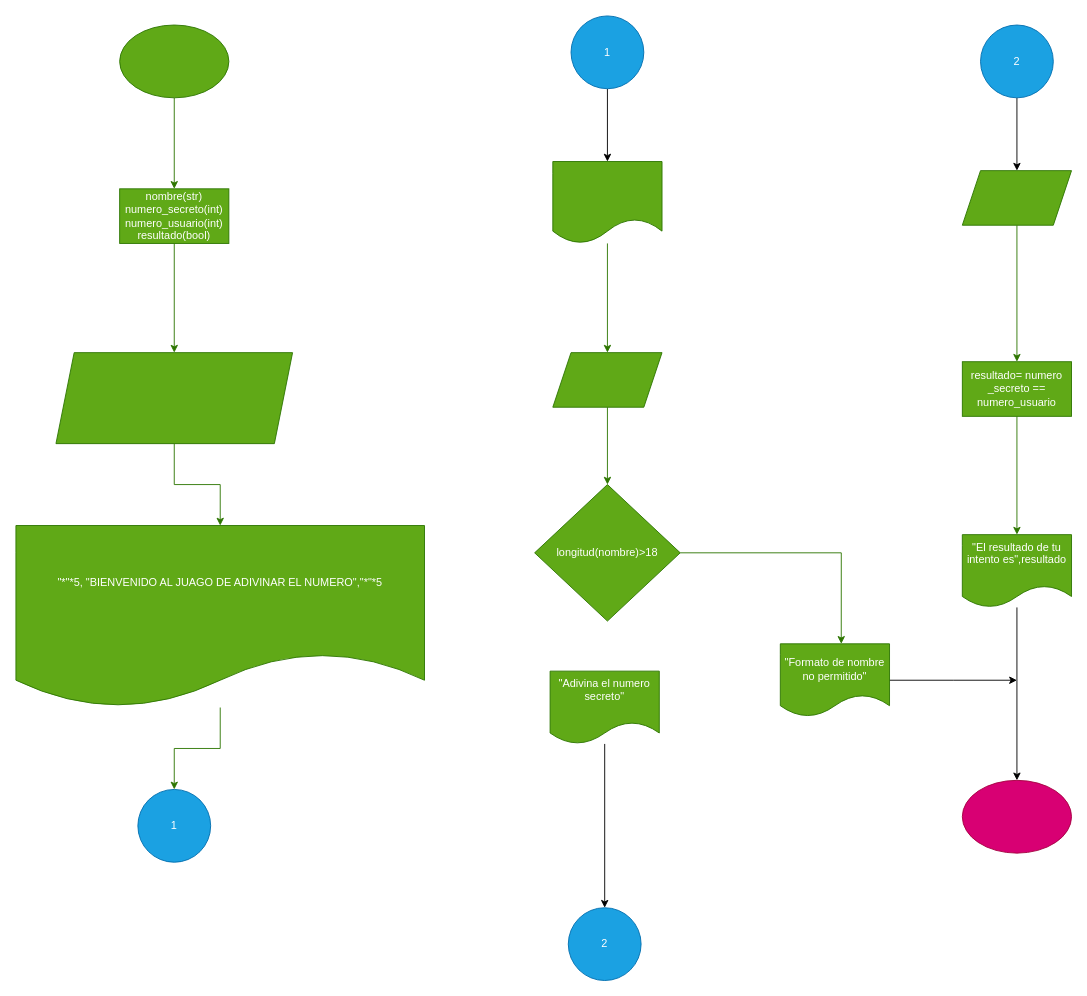
Some shapes in this 1087 by 996 pixel diagram are drawn without their labels. Here are the shapes that lost their labels. From the top down, the centre of each, then its label:
point (174, 61): INICIO
point (607, 202): "Escreibe tu nombre"
point (1016, 197): numero_usuario
point (174, 398): numero_secreto=random(1,100)
point (607, 379): nombre
point (1016, 816): FIN
